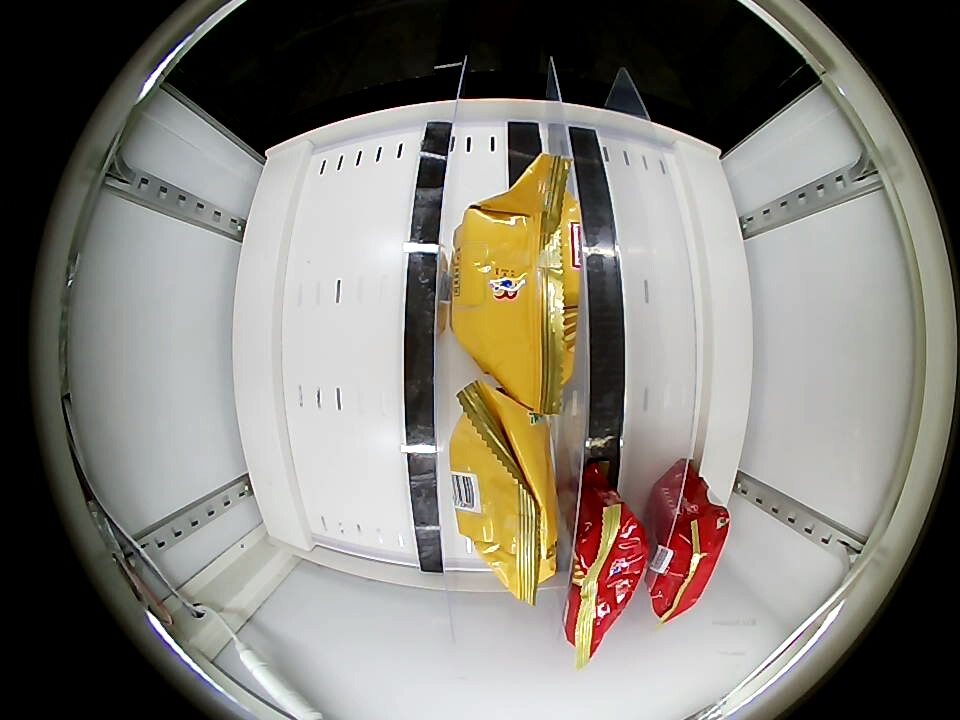kaomo_gali: (446, 194, 580, 408), (448, 386, 559, 593)
kaomo_shaokao: (563, 491, 648, 652), (648, 477, 730, 618)
